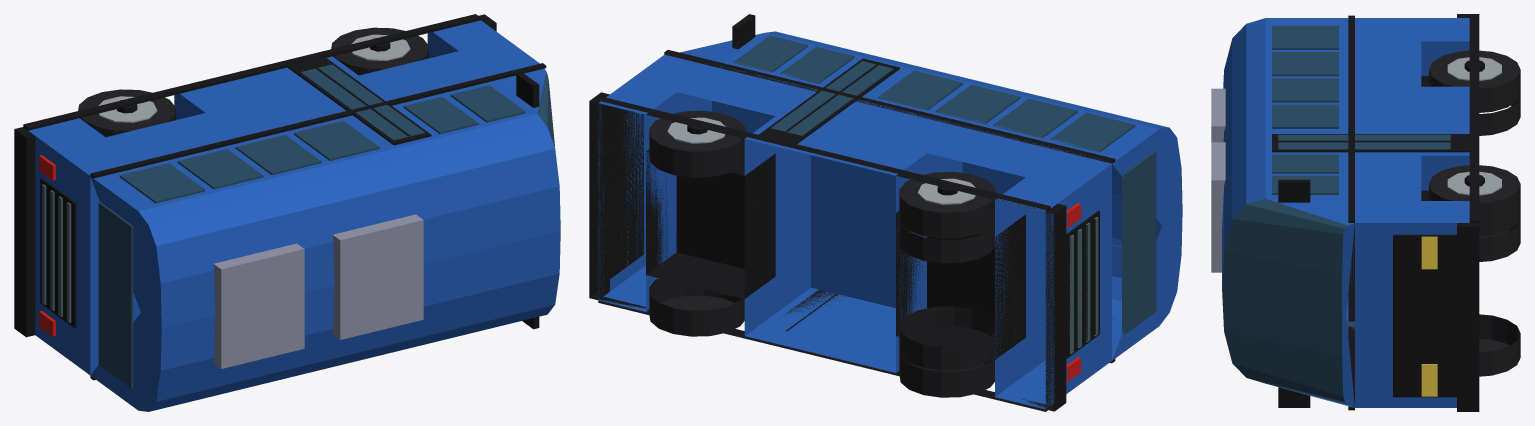
The picture shows the model from 3 angles, left to right: view 1: azimuth 30°, elevation 25°; view 2: azimuth 150°, elevation 25°; view 3: azimuth 270°, elevation 25°; orthographic projection. The views are drawn at different scales.
Parts seen in each view (by area): view 1: default_upper, default_lower_back, default_ac0, default_ac1, default_lower_mid, default_rear_window, default_bumper_rear, default_side1_-3.80_0.95_black, default_lower_arch_f, default_lower_arch_r, default_lower_front, default_engine_grille (+16 smaller); view 2: default_lower_mid, default_upper, default_arch_liner2.15, default_lower_back, default_arch_liner-2.1, default_lower_arch_f, default_lower_front, default_lower_arch_r, default_rear_window, default_grille, default_rear1, default_front1 (+21 smaller); view 3: default_upper, default_lower_front, default_grille, default_lower_mid, default_bumper, default_lower_back, default_rear1, default_front1, default_lower_arch_r, default_lower_arch_f, default_side1_0.60_1.40_glass_dark, default_side1_-3.80_0.95_black (+20 smaller).
Boxes of the visible parts, x1,y1,x2,y2 form: default_upper: (90,68,560,411); default_lower_back: (29,118,140,374); default_ac0: (213,243,304,368); default_ac1: (332,214,423,339); default_lower_mid: (174,56,391,136); default_rear_window: (98,202,133,388); default_bumper_rear: (14,127,35,337); default_side1_-3.80_0.95_black: (23,14,480,130); default_lower_arch_f: (359,51,491,99); default_lower_arch_r: (106,113,238,161); default_lower_front: (427,20,539,75); default_engine_grille: (40,178,76,328); default_lower_mid: (744,90,961,372); default_upper: (680,31,1182,360); default_arch_liner2.15: (646,149,775,298); default_lower_back: (995,151,1111,409); default_arch_liner-2.1: (896,211,1025,359); default_lower_arch_f: (677,66,810,312); default_lower_front: (598,54,711,311); default_lower_arch_r: (927,127,1060,373); default_rear_window: (1122,151,1156,335); default_grille: (610,106,643,278); default_rear1: (899,172,995,238); default_front1: (649,110,745,177); default_upper: (1222,18,1354,407); default_lower_front: (1355,201,1469,407); default_grille: (1393,234,1456,397); default_lower_mid: (1355,86,1469,190); default_bumper: (1457,223,1479,411); default_lower_back: (1355,18,1469,75); default_rear1: (1429,50,1520,112); default_front1: (1429,165,1520,227); default_lower_arch_r: (1355,41,1421,86); default_lower_arch_f: (1355,155,1421,200); default_side1_0.60_1.40_glass_dark: (1278,134,1450,149); default_side1_-3.80_0.95_black: (1469,15,1479,222).
Size of the model in its own units: 7.9 by 3.9 by 4.85.
